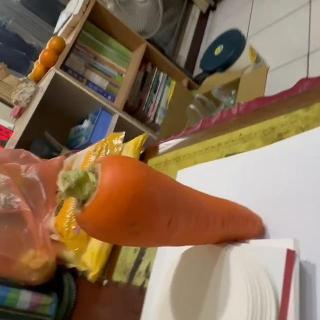carrot: (60, 154, 264, 248)
